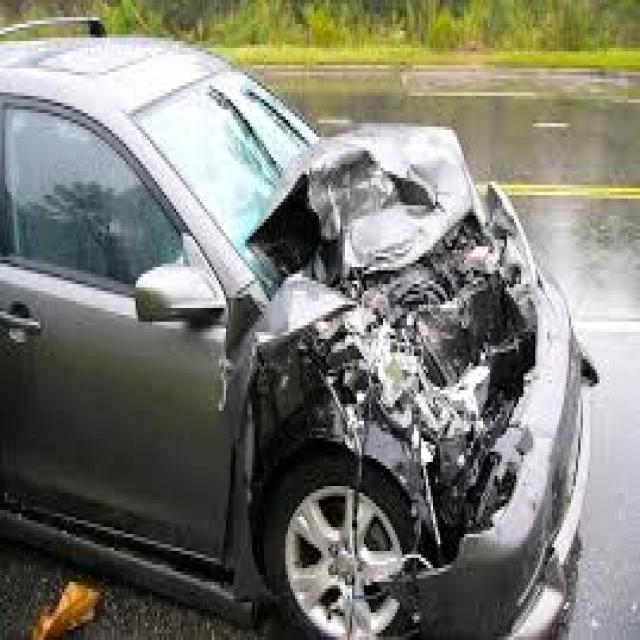accident: (60, 14, 610, 609)
